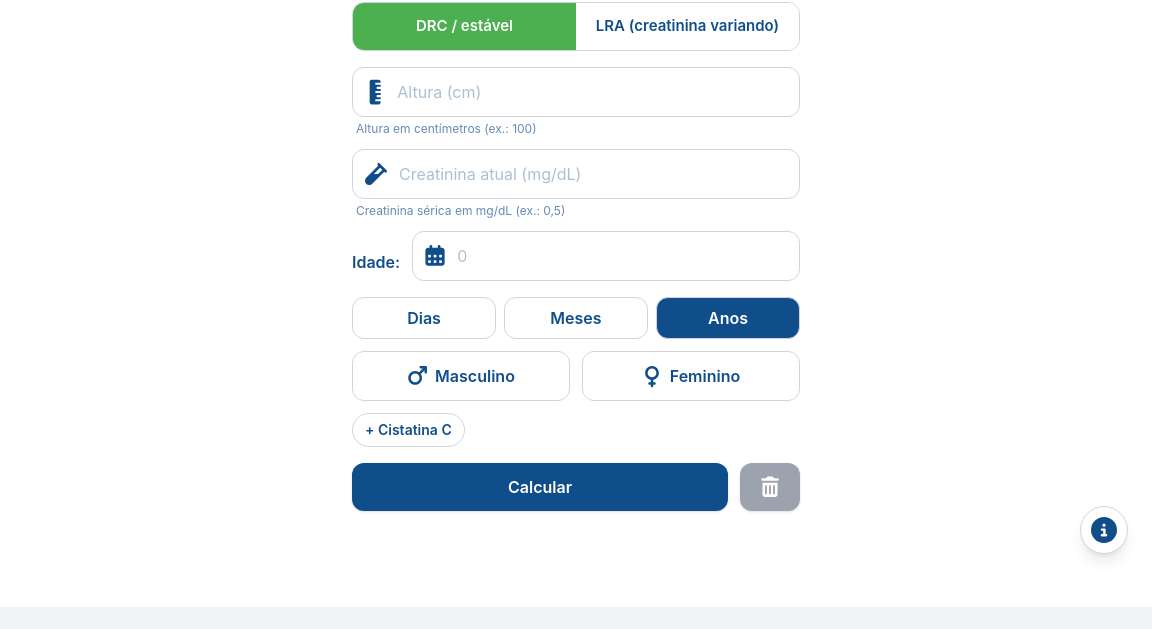
Test: TFG Pediátrica (interface) › LRA: diurese como critério e basal estimada com aviso
The image size is (1152, 629).
Click the tab "LRA (creatinina variando)". click: (688, 26)
box: [576,3,799,50]
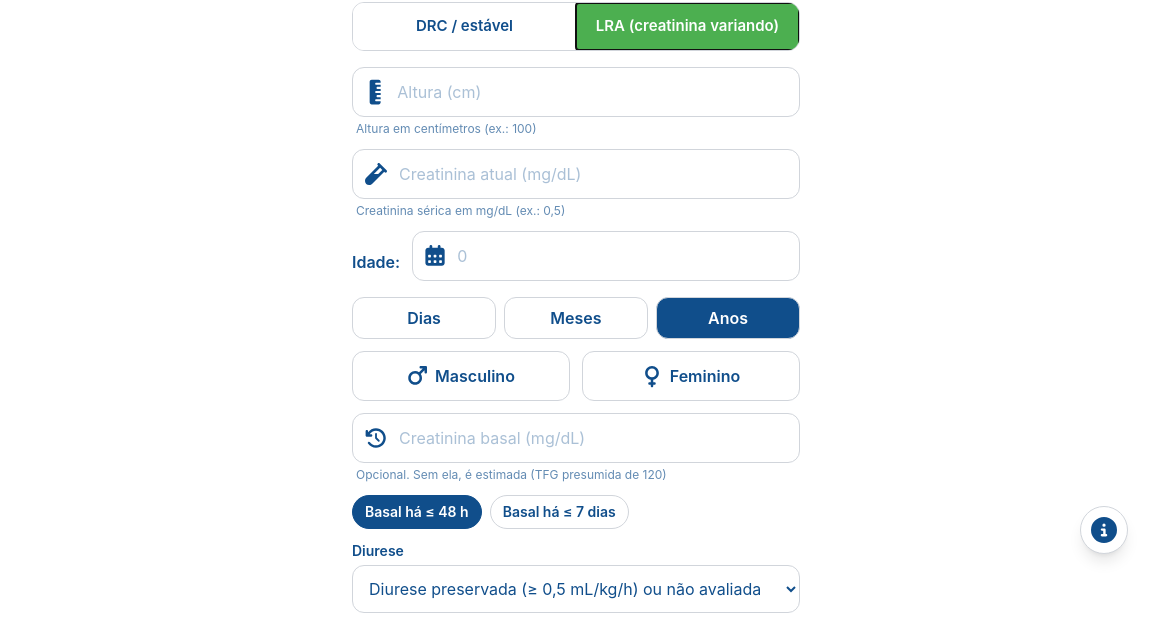
Type "150" into the field with placeholder "Altura (cm)". click: (592, 92)
box: [397,68,787,116]
Type "0.5" into the field with placeholder "Creatinina atual (mg/dL)". click: (593, 174)
box: [399,150,787,198]
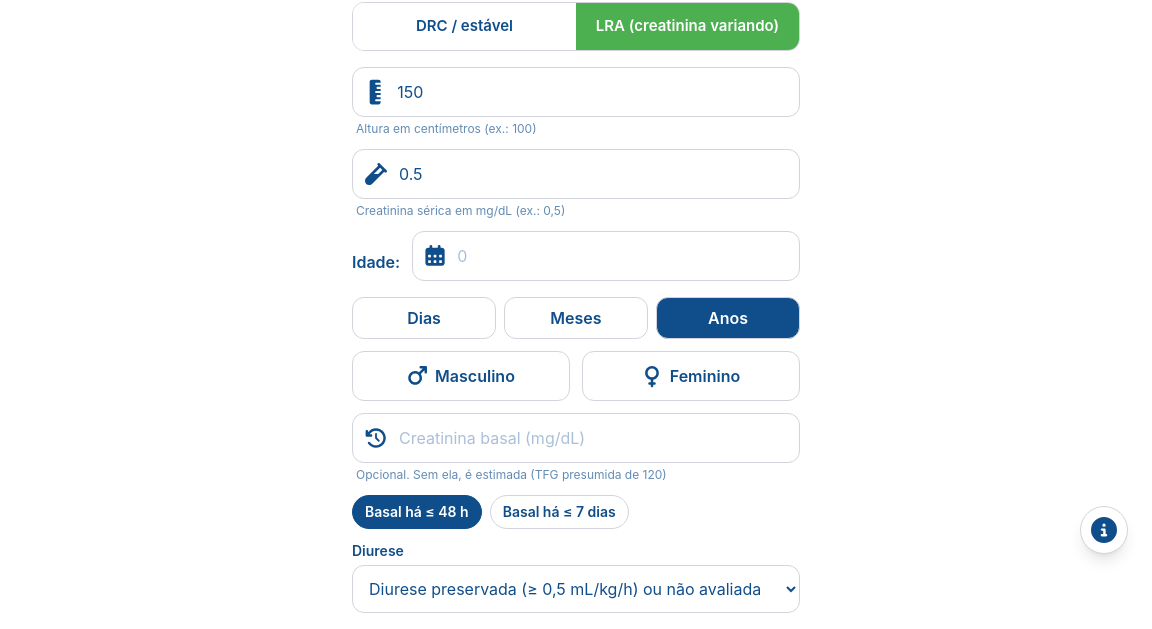
Type "12" into the field named "Idade". click: (622, 256)
box: [457,232,787,280]
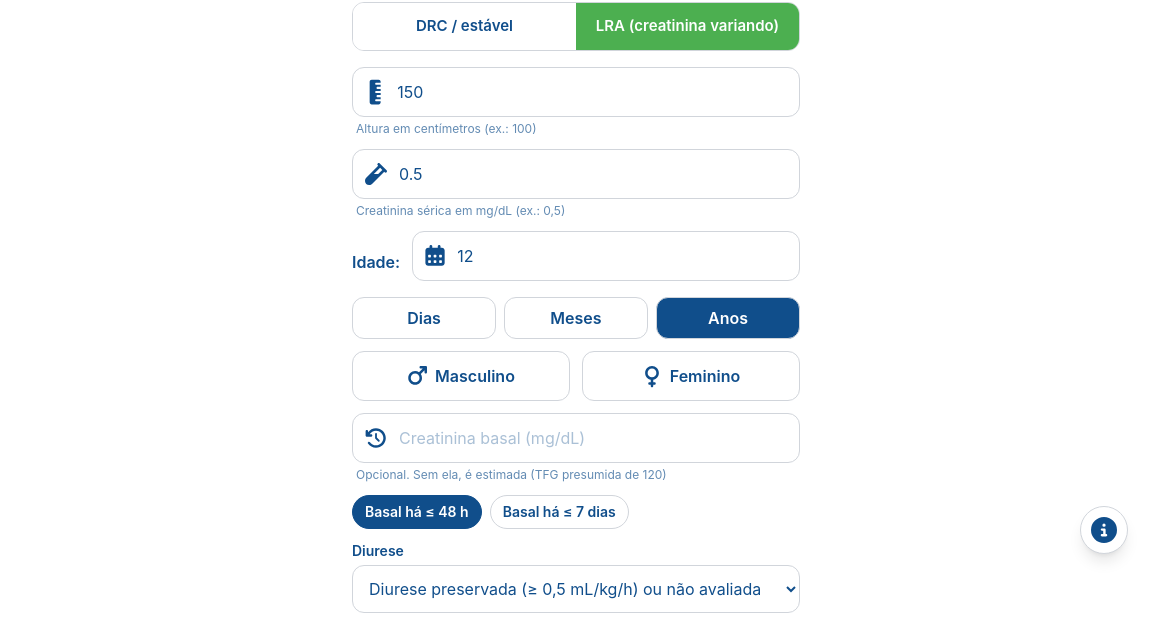
Click the button "Masculino". click: (461, 376)
box: [352,350,570,400]
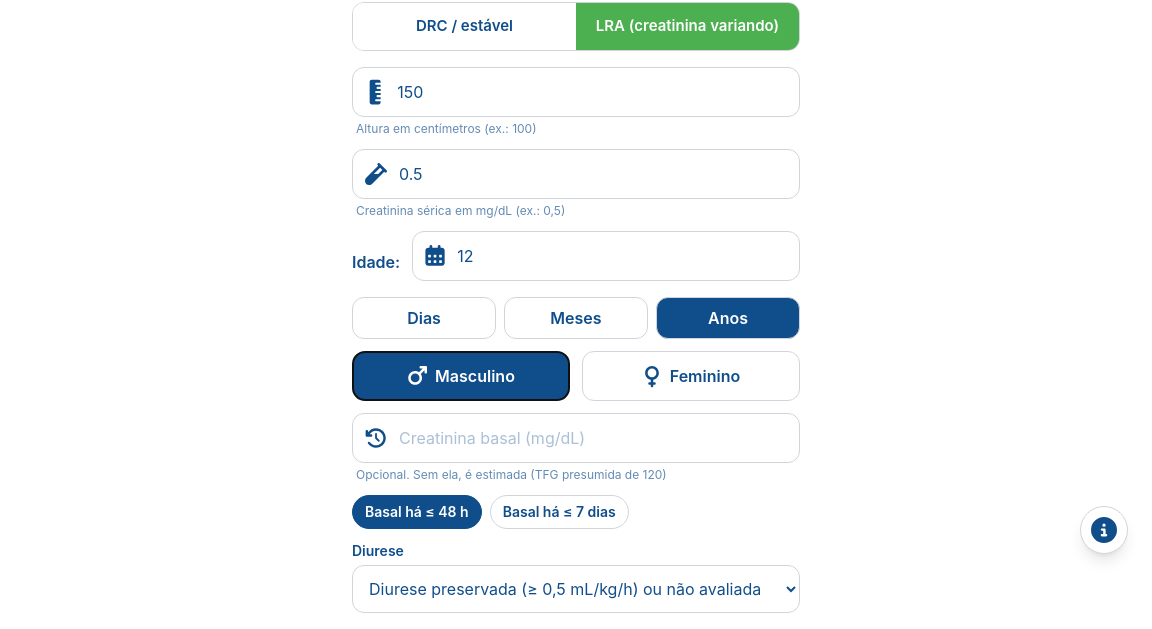
Select "< 0,5 mL/kg/h por ≥ 12 h" in the dropdown labelled "Diurese". click: (576, 588)
box: [352,564,800,612]
(page scrolled)
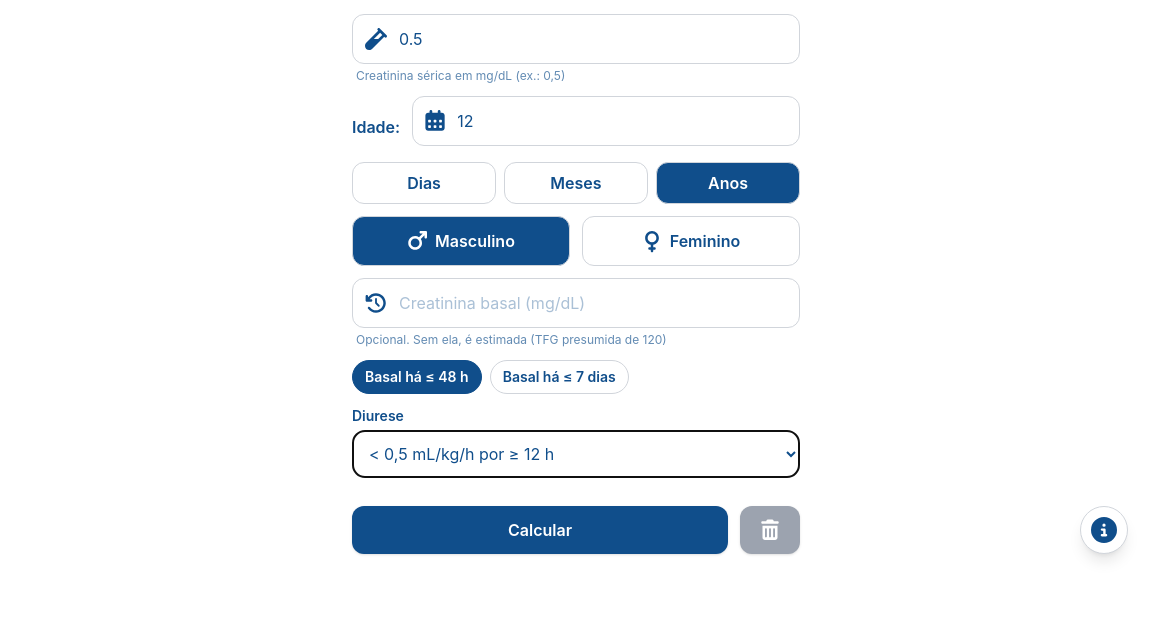
Click the button "Calcular". click: (540, 530)
box: [352,506,728,554]
(page scrolled)
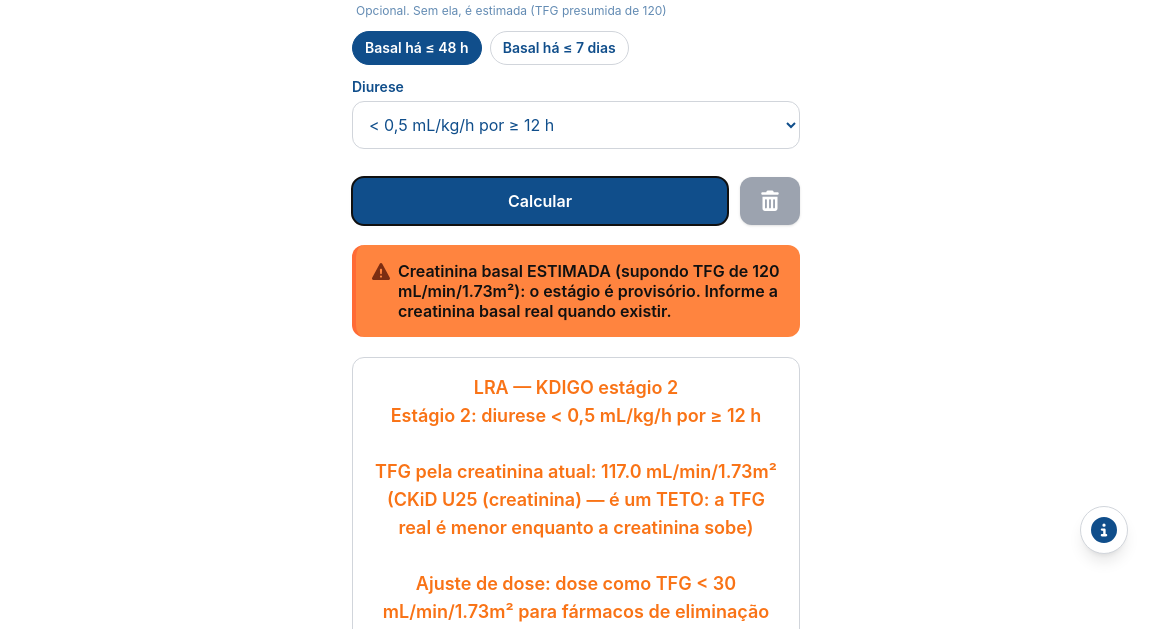
Check: the 1st message shows "ESTIMADA", box [398,260,780,320]
